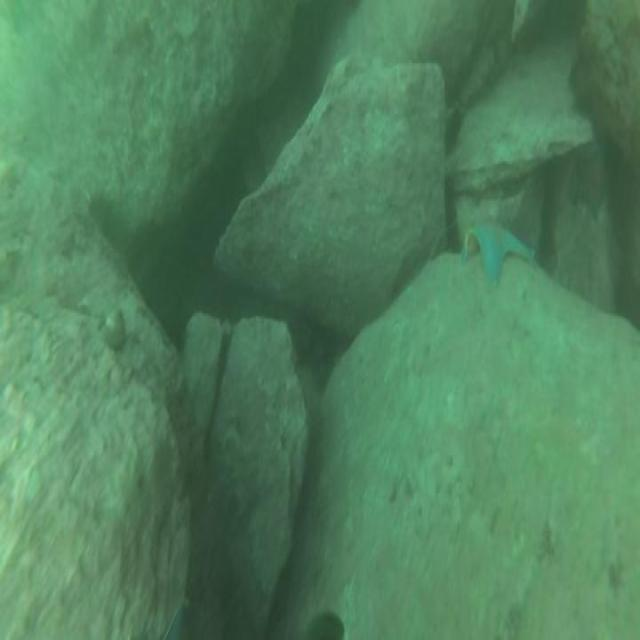starfish: (462, 217, 539, 286), (567, 141, 615, 226)
